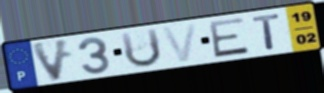3: (77, 35, 112, 75)
E: (207, 16, 252, 60)
T: (251, 12, 284, 51)
U: (118, 26, 164, 70)
V: (28, 37, 73, 83), (159, 21, 200, 64)
